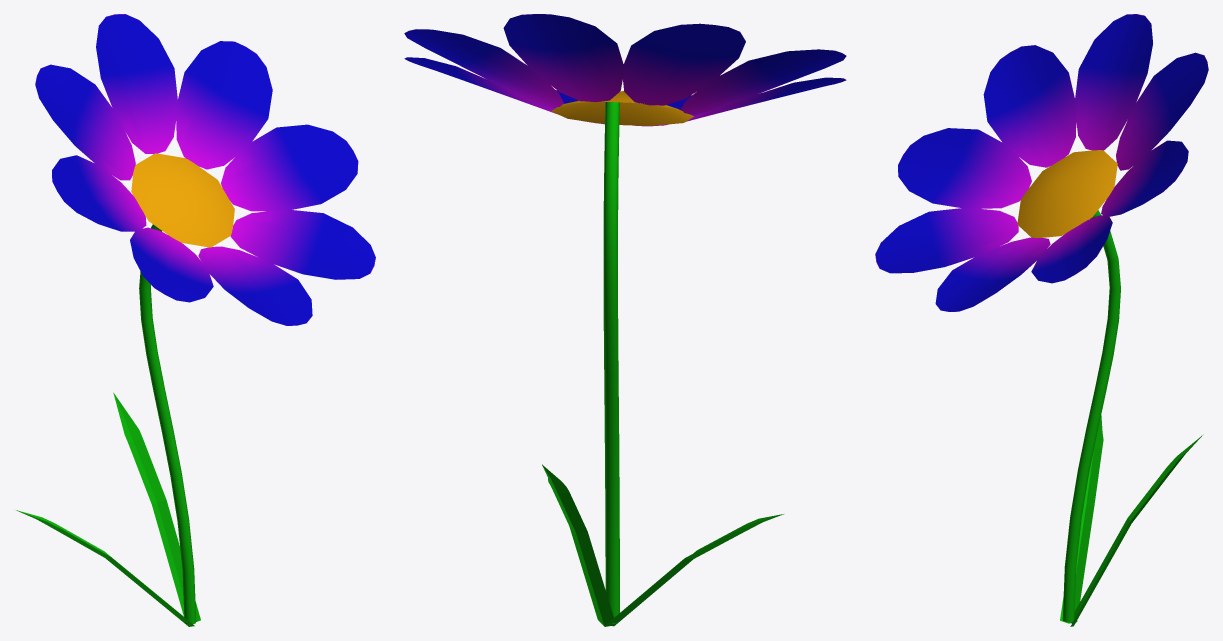
Rendered from bleu flower.fbx.
3 renders of one model, left to right at view 1: azimuth 30°, elevation 25°; view 2: azimuth 150°, elevation 25°; view 3: azimuth 270°, elevation 25°, orthographic. The views are drawn at different scales.
Parts seen in each view (by area): view 1: blue flower; view 2: blue flower; view 3: blue flower.
Boxes of the visible parts, x1=… form: blue flower: x1=16, y1=14, x2=375, y2=626; blue flower: x1=404, y1=14, x2=846, y2=626; blue flower: x1=875, y1=14, x2=1208, y2=626.
Size of the model in its own units: 632 by 1035 by 557.
